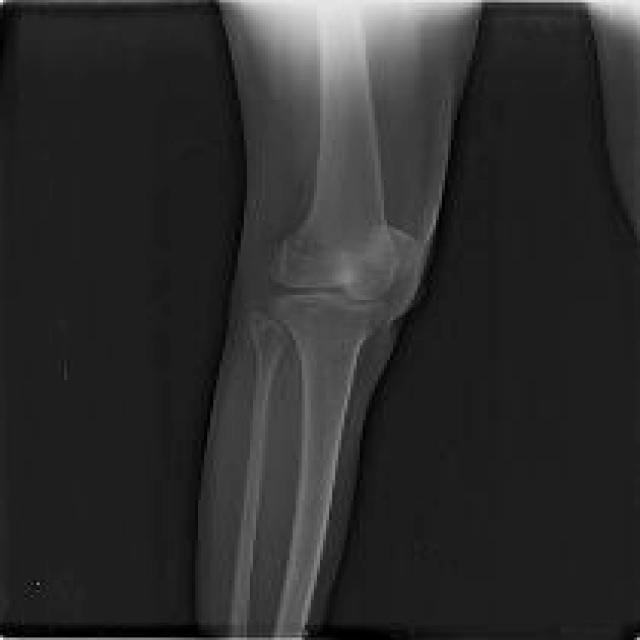normal: (229, 2, 416, 640)
